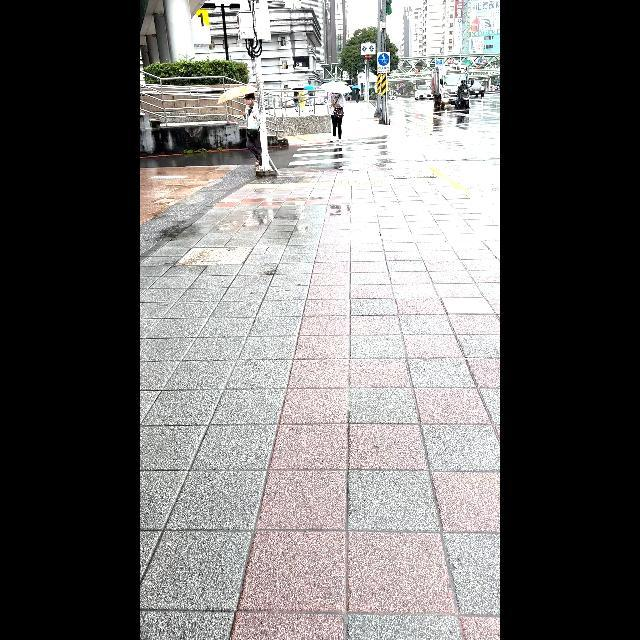sidewalk: (280, 101, 460, 177)
